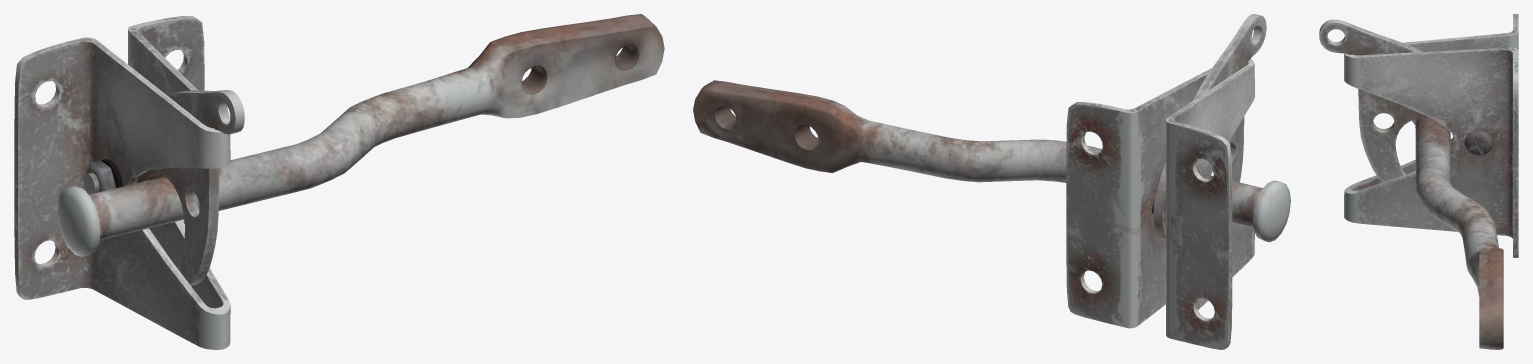
Rendered from gate_latch_01.glb.
3 renders of one model, left to right at view 1: azimuth 30°, elevation 25°; view 2: azimuth 150°, elevation 25°; view 3: azimuth 270°, elevation 25°, orthographic. The views are drawn at different scales.
Parts seen in each view (by area): view 1: gate_latch_01_frame, gate_latch_01_latch, gate_latch_01_hook; view 2: gate_latch_01_frame, gate_latch_01_latch, gate_latch_01_hook; view 3: gate_latch_01_frame, gate_latch_01_latch, gate_latch_01_hook.
Boxes of the visible parts, x1,y1,x2,y2 form: gate_latch_01_frame: (14,16,230,349); gate_latch_01_latch: (57,14,664,256); gate_latch_01_hook: (137,90,244,285); gate_latch_01_frame: (1066,59,1254,349); gate_latch_01_latch: (693,80,1290,242); gate_latch_01_hook: (1153,14,1266,240); gate_latch_01_frame: (1344,14,1518,257); gate_latch_01_latch: (1411,118,1503,349); gate_latch_01_hook: (1319,19,1430,182).
Size of the model in its own units: 0.2051 by 0.0854 by 0.0747.
Materials: 1 (1 with a texture image).
